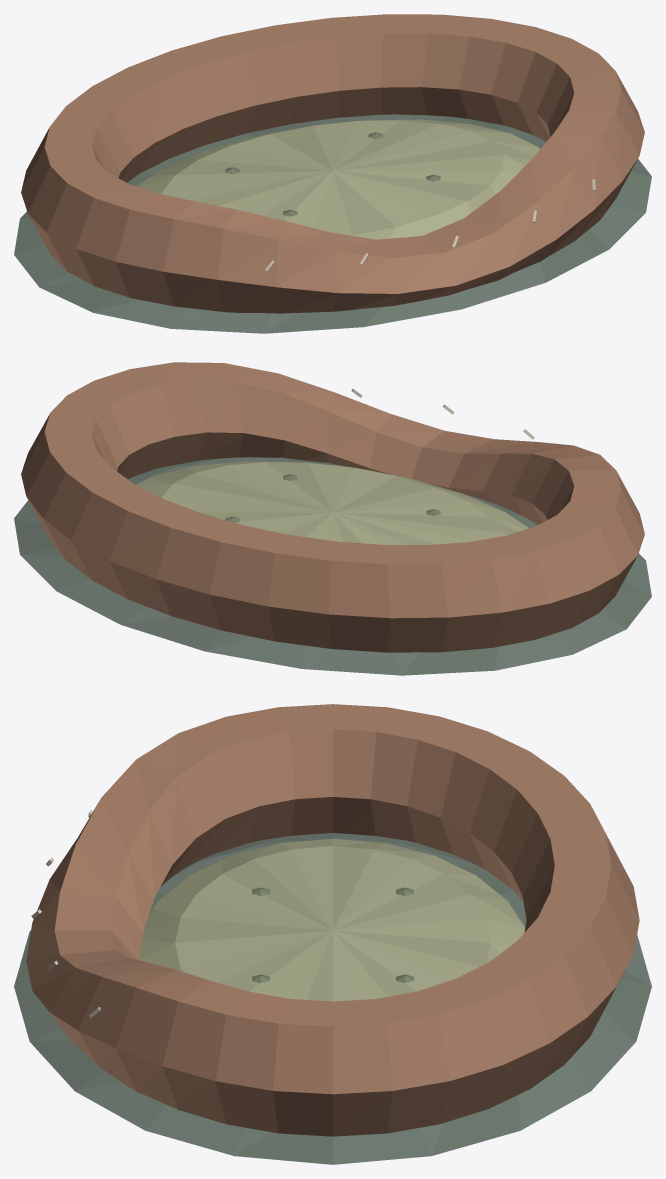
File: pet_bed.glb
3 renders of one model, top to bottom at view 1: azimuth 30°, elevation 25°; view 2: azimuth 150°, elevation 25°; view 3: azimuth 270°, elevation 25°, orthographic. The views are drawn at different scales.
Visible parts, largest first — view 1: geometry, cushion; view 2: geometry, cushion; view 3: geometry, cushion.
Part boxes in pixels (box(x1,y1,x2,y2)): geometry: box(14, 14, 651, 333); cushion: box(136, 119, 539, 239); geometry: box(14, 362, 651, 675); cushion: box(136, 461, 529, 544); geometry: box(14, 704, 651, 1164); cushion: box(138, 839, 525, 1001).
Bounding box in the file's own units: 0.82 × 0.1649 × 0.62.
